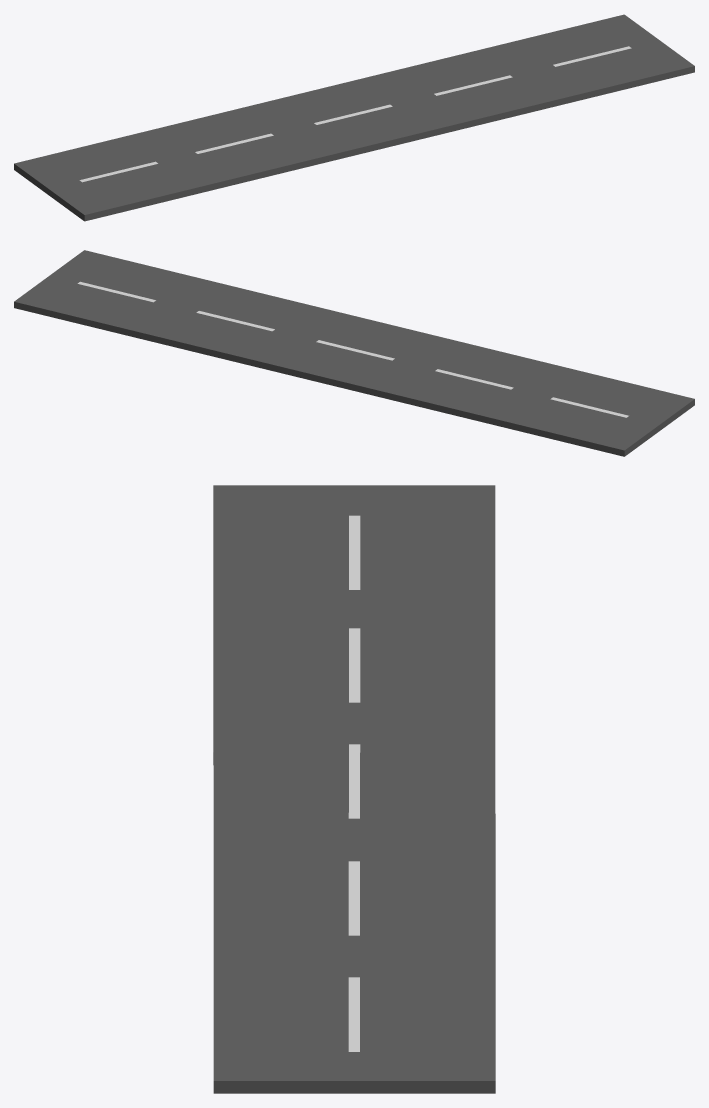
The model's file is road_1_4.dae.
The picture shows the model from 3 angles, top to bottom: view 1: azimuth 30°, elevation 25°; view 2: azimuth 150°, elevation 25°; view 3: azimuth 270°, elevation 25°; orthographic projection. The views are drawn at different scales.
Visible parts, largest first — view 1: road_base_long, road_line_4; view 2: road_base_long, road_line_4; view 3: road_base_long, road_line_4.
Part boxes in pixels (x1,y1,x2,y2): road_base_long: (14, 14, 694, 221); road_line_4: (79, 46, 631, 182); road_base_long: (14, 250, 694, 456); road_line_4: (77, 281, 628, 417); road_base_long: (213, 485, 495, 1093); road_line_4: (348, 515, 360, 1051).
Size of the model in its own units: 50 by 10.02 by 0.5183.
Materials: 2 (2 with a texture image).
